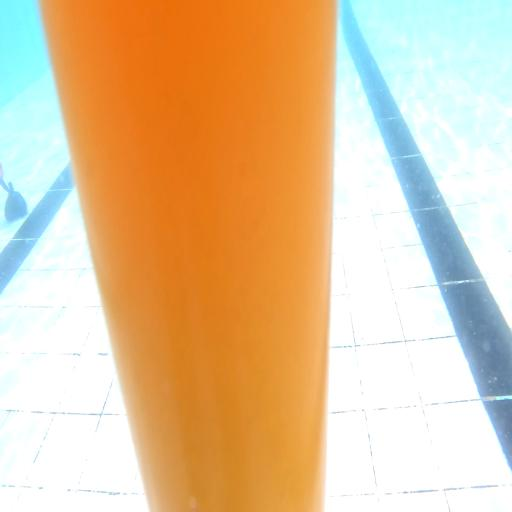pole_gate: (38, 0, 337, 512)
